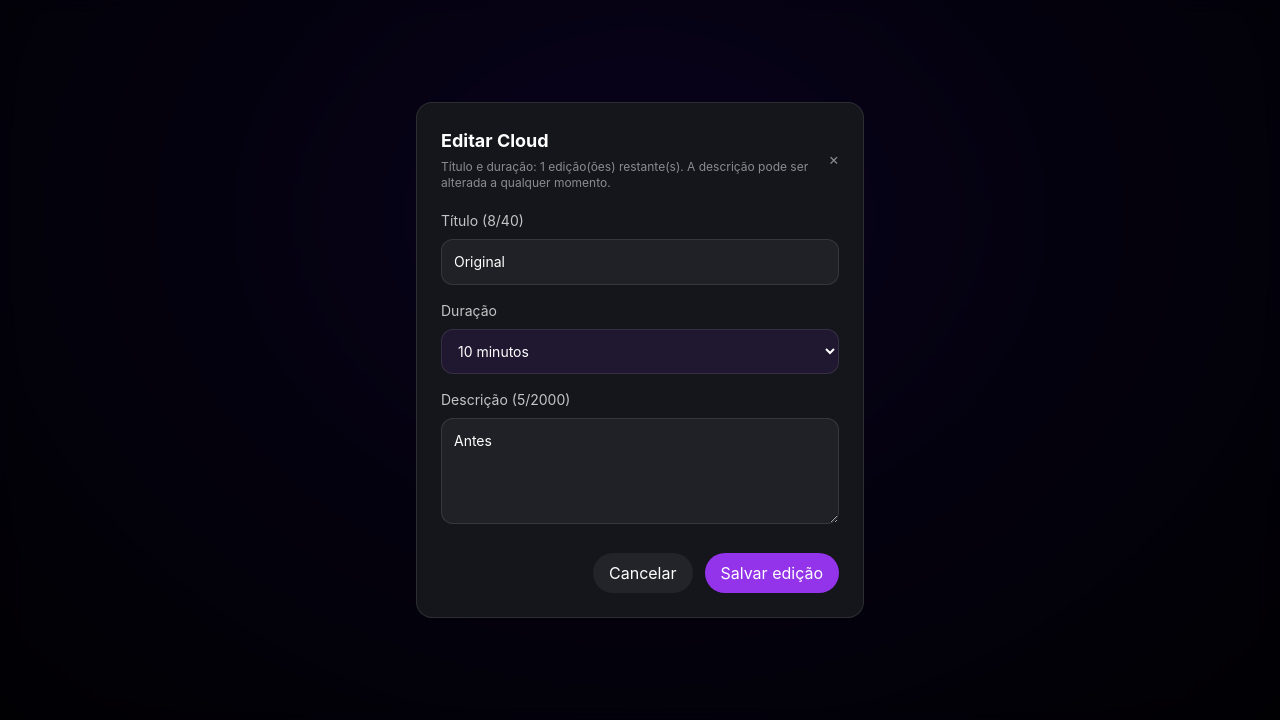
Test: shows the server error without closing the editor
Click the button "Salvar edição" at (772, 573), box [704, 553, 839, 593]
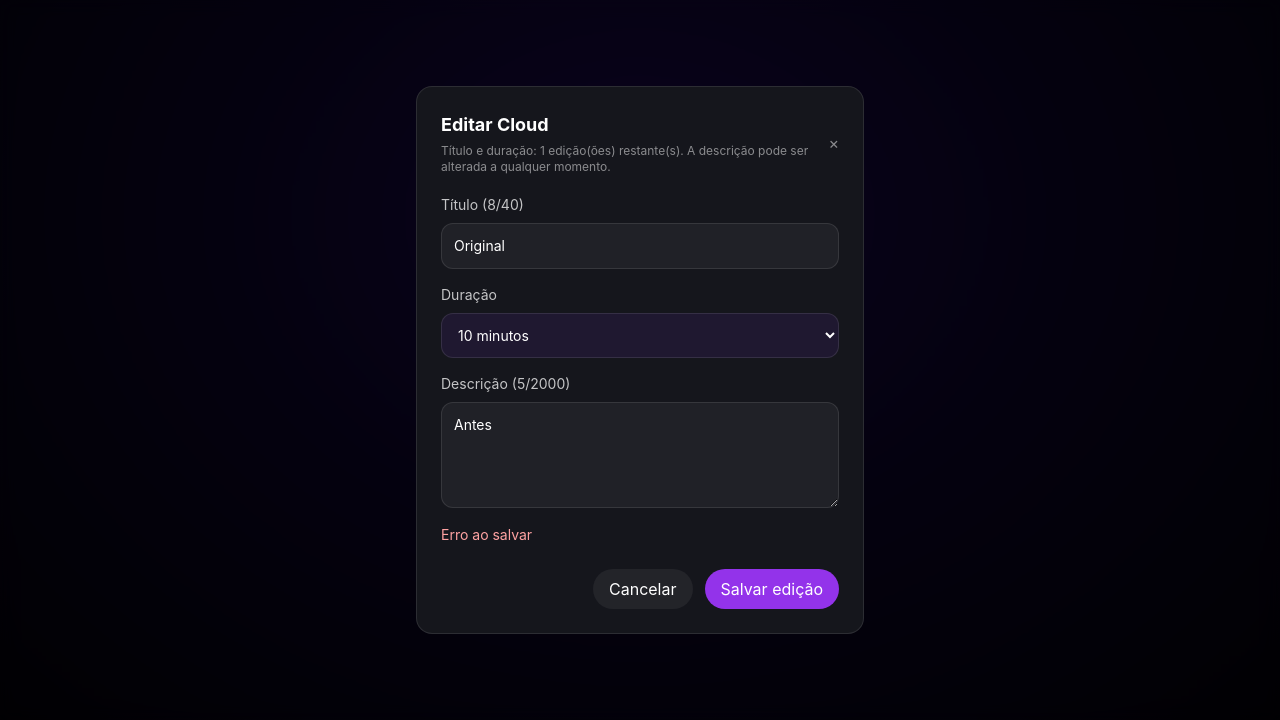
expect the dialog "Editar Cloud" is shown: met, box [416, 86, 864, 634]
expect the message reads "Erro ao salvar": met, box [441, 526, 532, 543]
